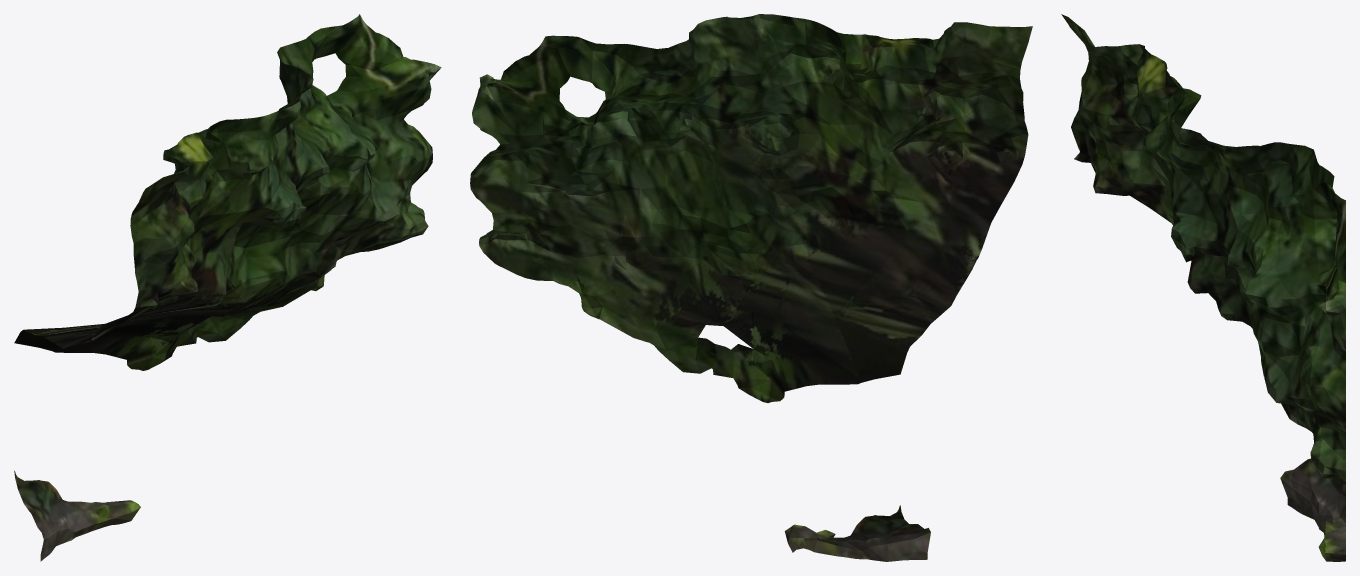
3 views of the same model, side by side, from view 1: azimuth 30°, elevation 25°; view 2: azimuth 150°, elevation 25°; view 3: azimuth 270°, elevation 25° (orthographic). The views are drawn at different scales.
Bounding box in the file's own units: 0.8261 × 0.8374 × 0.4401.
Materials: 2 (2 with a texture image).
